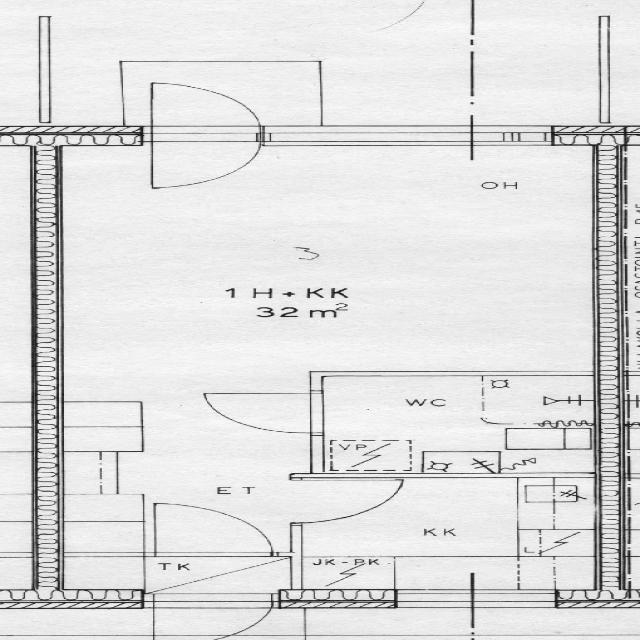door: (151, 80, 261, 146), (151, 126, 261, 190), (154, 505, 272, 556), (290, 480, 405, 523), (213, 393, 320, 432)
